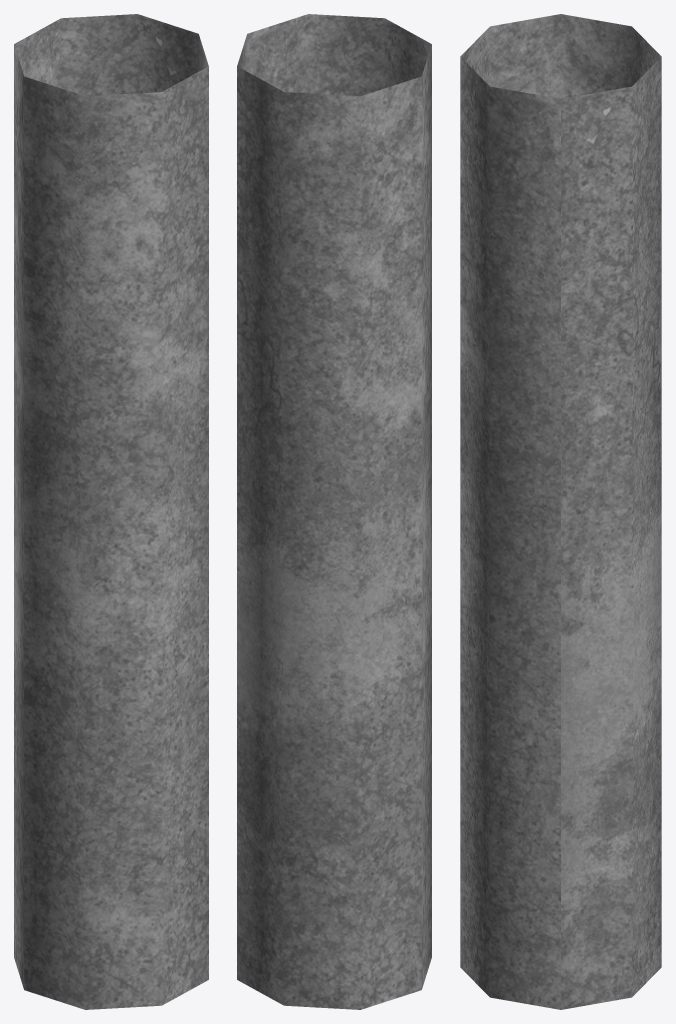
File: Pipes0Straight.fbx
3 renders of one model, left to right at view 1: azimuth 30°, elevation 25°; view 2: azimuth 150°, elevation 25°; view 3: azimuth 270°, elevation 25°, orthographic.
Visible parts, largest first — view 1: Pipe0Straight; view 2: Pipe0Straight; view 3: Pipe0Straight.
Boxes of the visible parts, x1=… form: Pipe0Straight: x1=14, y1=14, x2=208, y2=1009; Pipe0Straight: x1=237, y1=14, x2=431, y2=1009; Pipe0Straight: x1=460, y1=14, x2=661, y2=1009.
Size of the model in its own units: 0.4 by 2 by 0.4.
